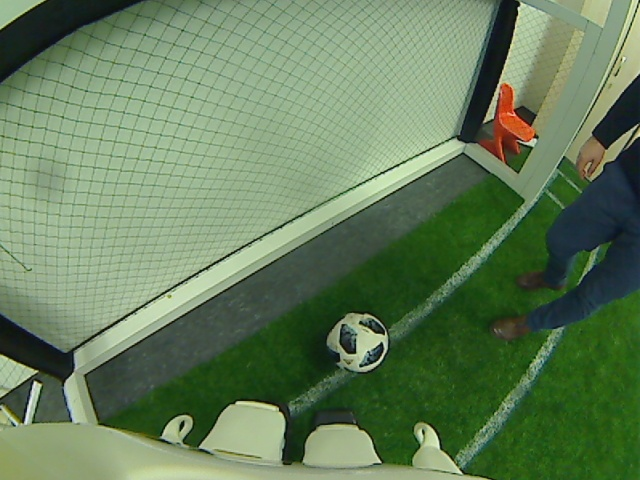ball: (327, 309, 389, 376)
